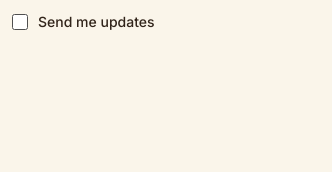
Test: Chip and Checkbox › toggles via its accessible label
Click the checkbox labelled "Send me updates" at (20, 22), box x1=12 y1=14 x2=28 y2=30
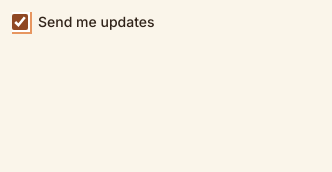
Check: the checkbox labelled "Send me updates" is checked, box x1=12 y1=14 x2=28 y2=30
